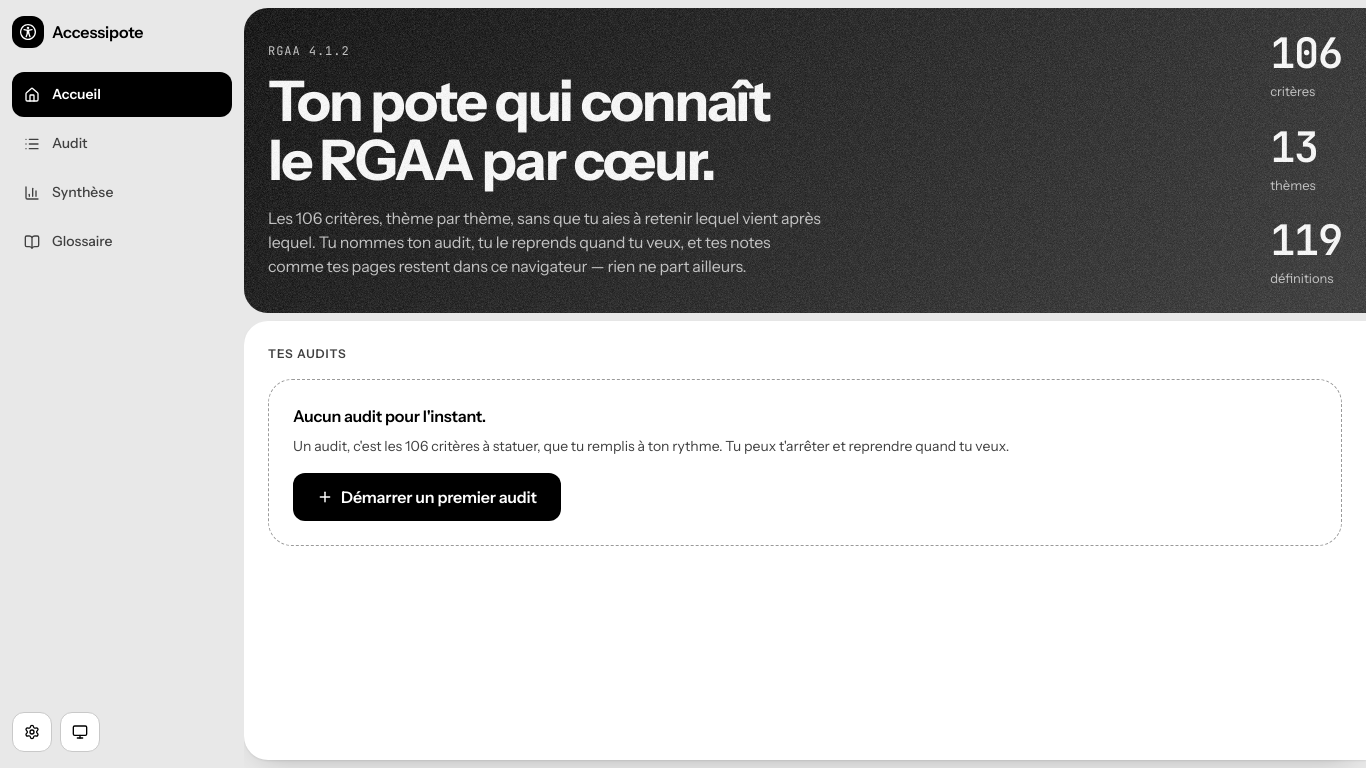
App — cycle de vie d'un audit › crée un audit depuis l'accueil et bascule sur sa vue d'audit
The width and height of the screenshot is (1366, 768).
Click the button "Démarrer un premier audit": x=427, y=496 [293,472,561,520]
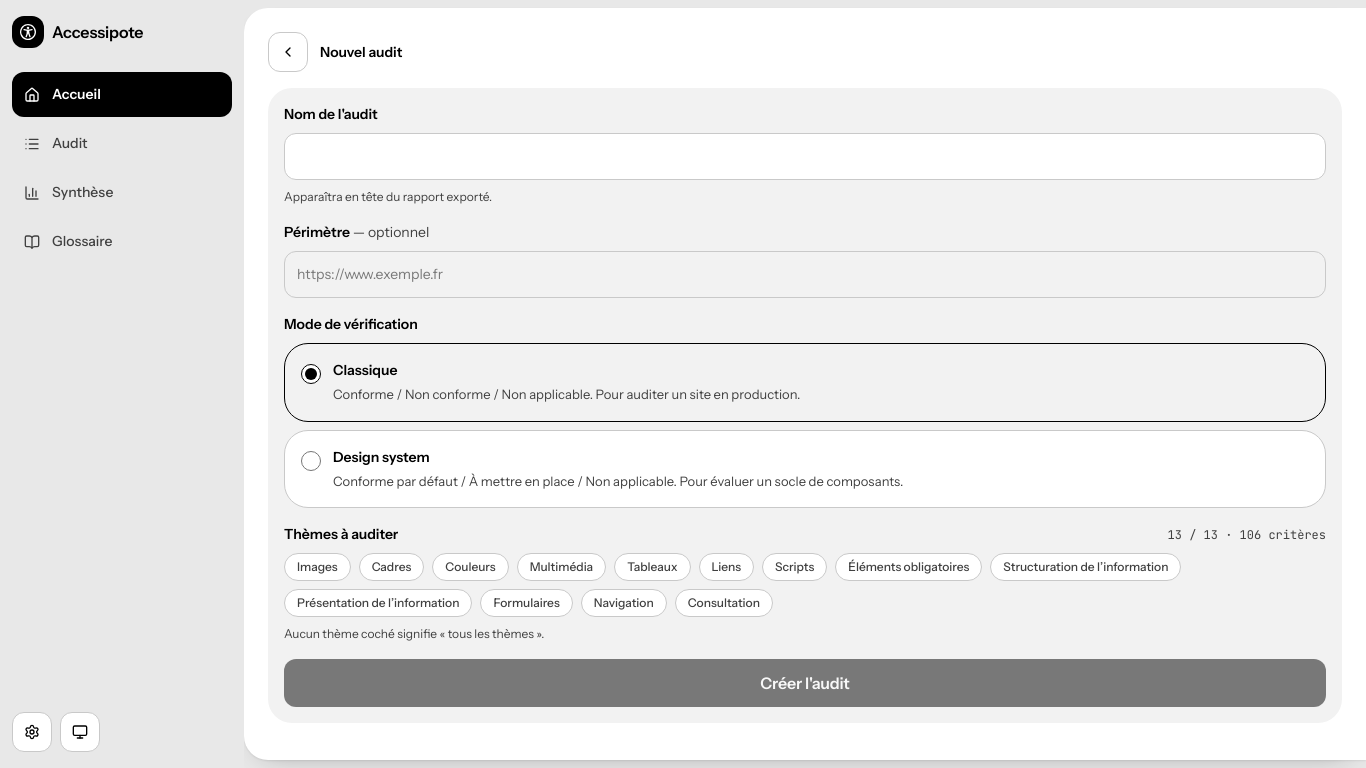
In the field labelled "Nom de l'audit": x=805, y=156 [284,133,1326,180], type "Site vitrine"
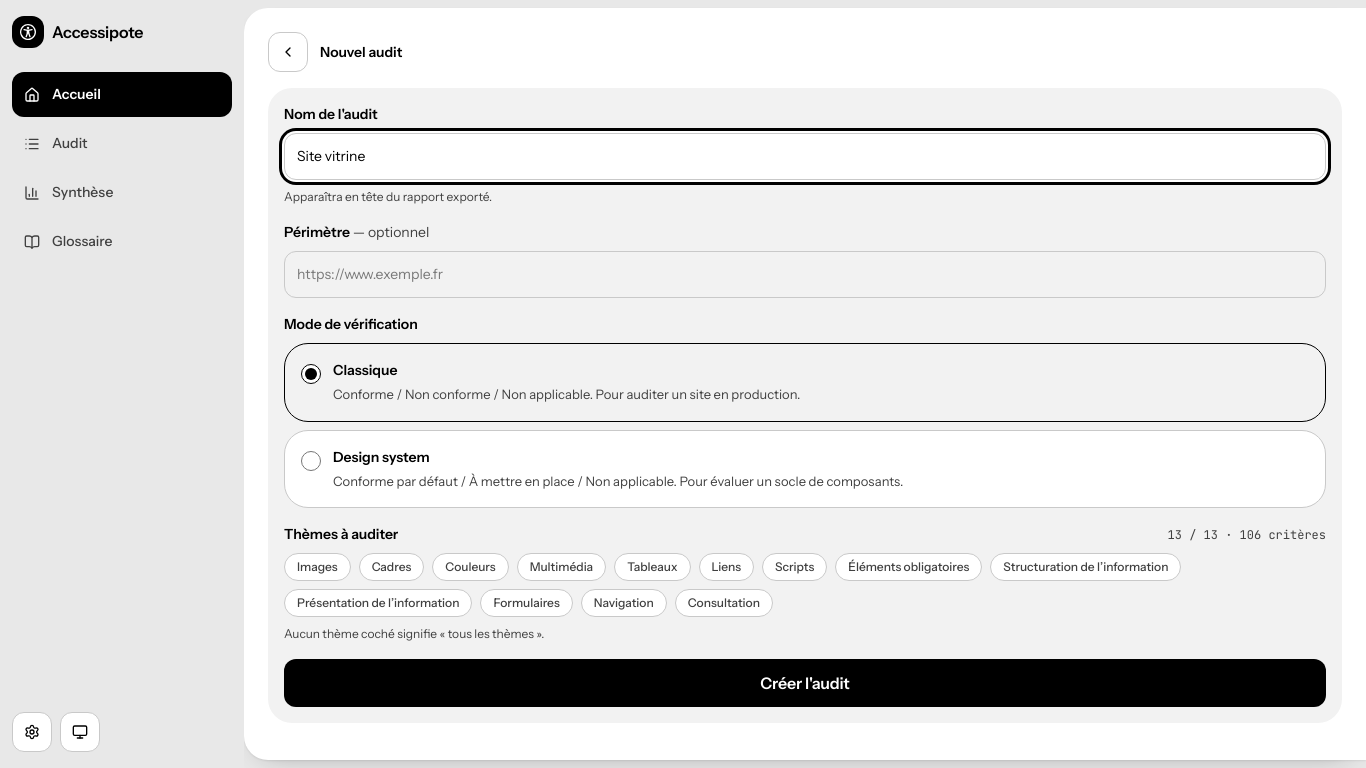
Click the checkbox labelled "Images": x=317, y=567 [284,553,351,581]
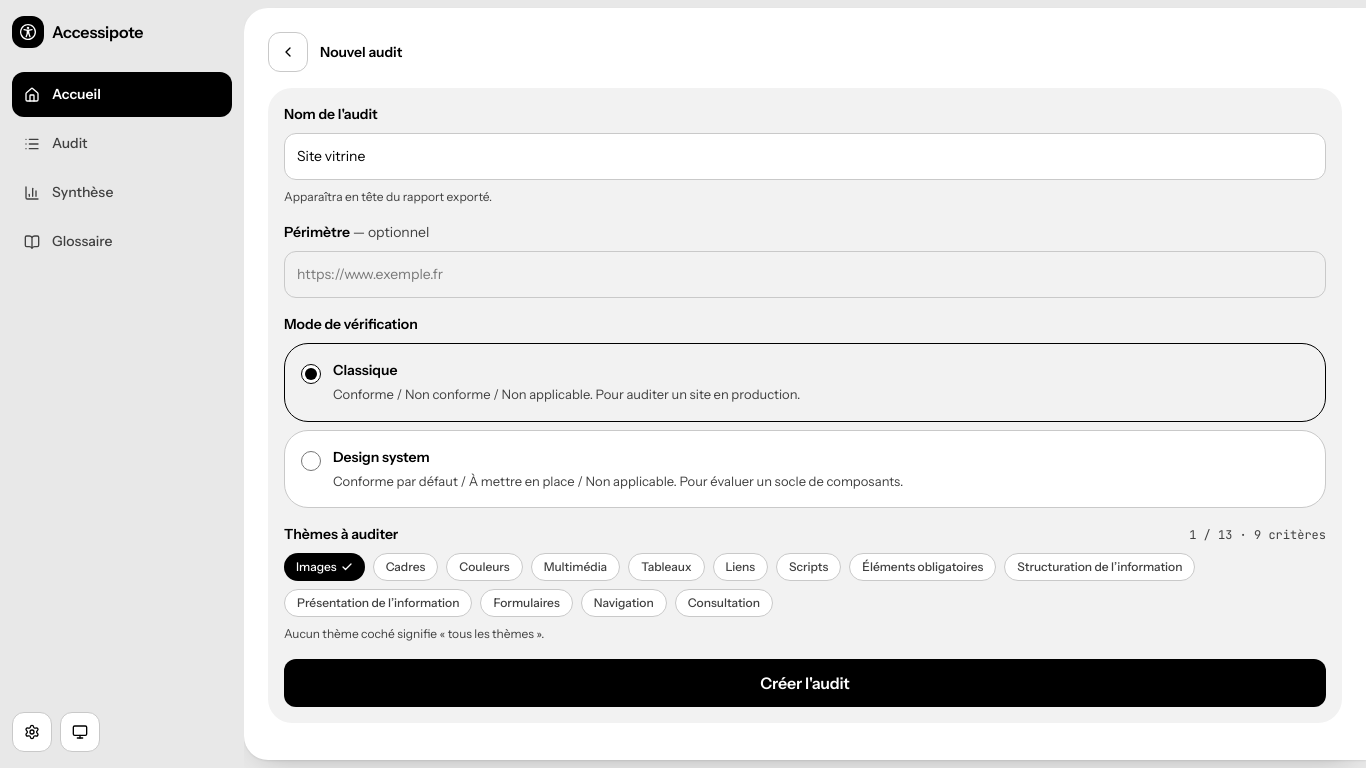
Click the button "Créer l'audit": x=805, y=683 [284,659,1326,707]
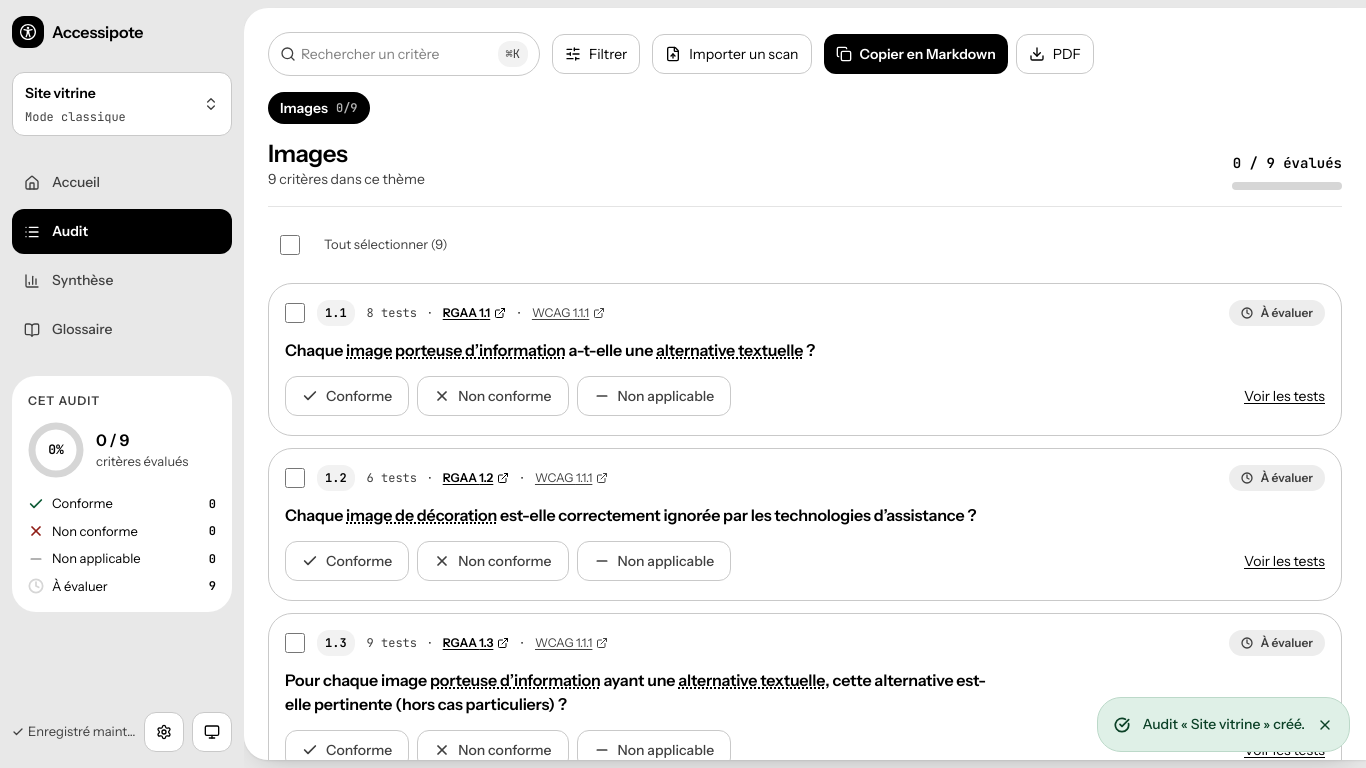
Expected: the heading "Images" is shown, [268,139,347,168]
Expected: the text "Audit « Site vitrine » créé." is shown, [1142,714,1305,735]
